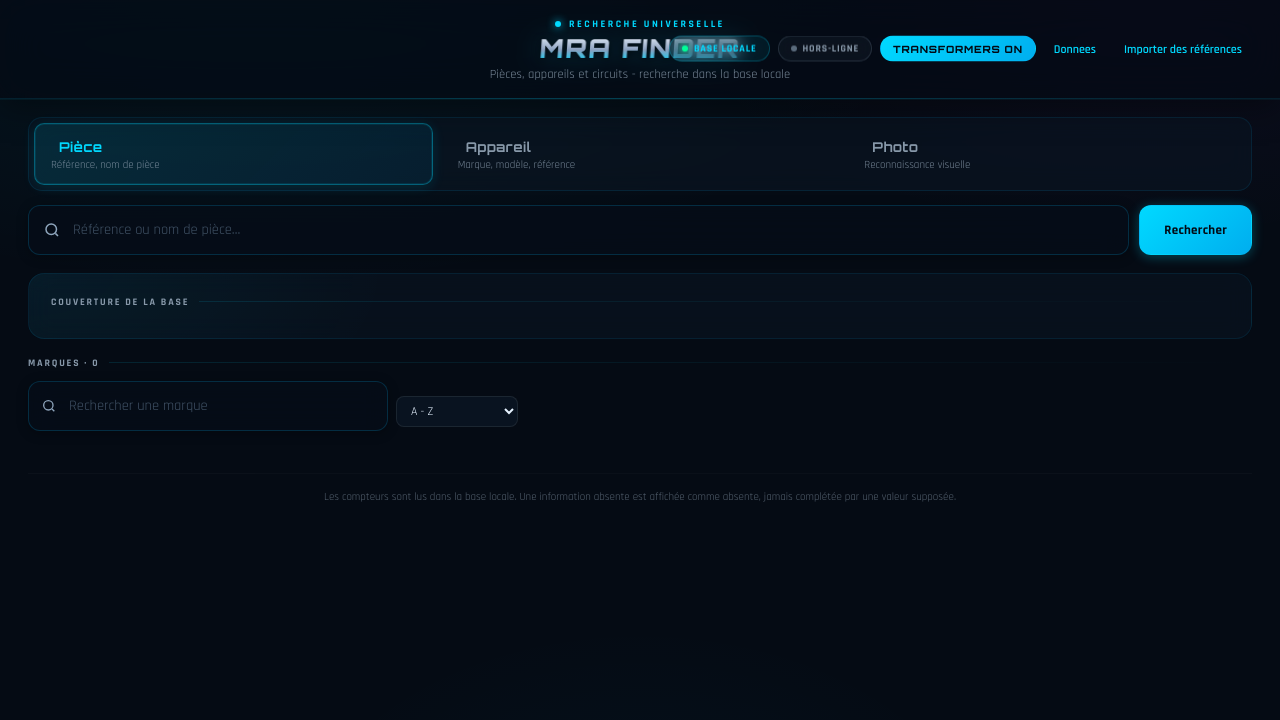
MRA FINDER — écran › le panneau d’import annonce la règle des statuts et propose le modèle CSV
Click the button "Importer des références" at (1183, 49), box top-left (1114, 35), bottom-right (1252, 62)
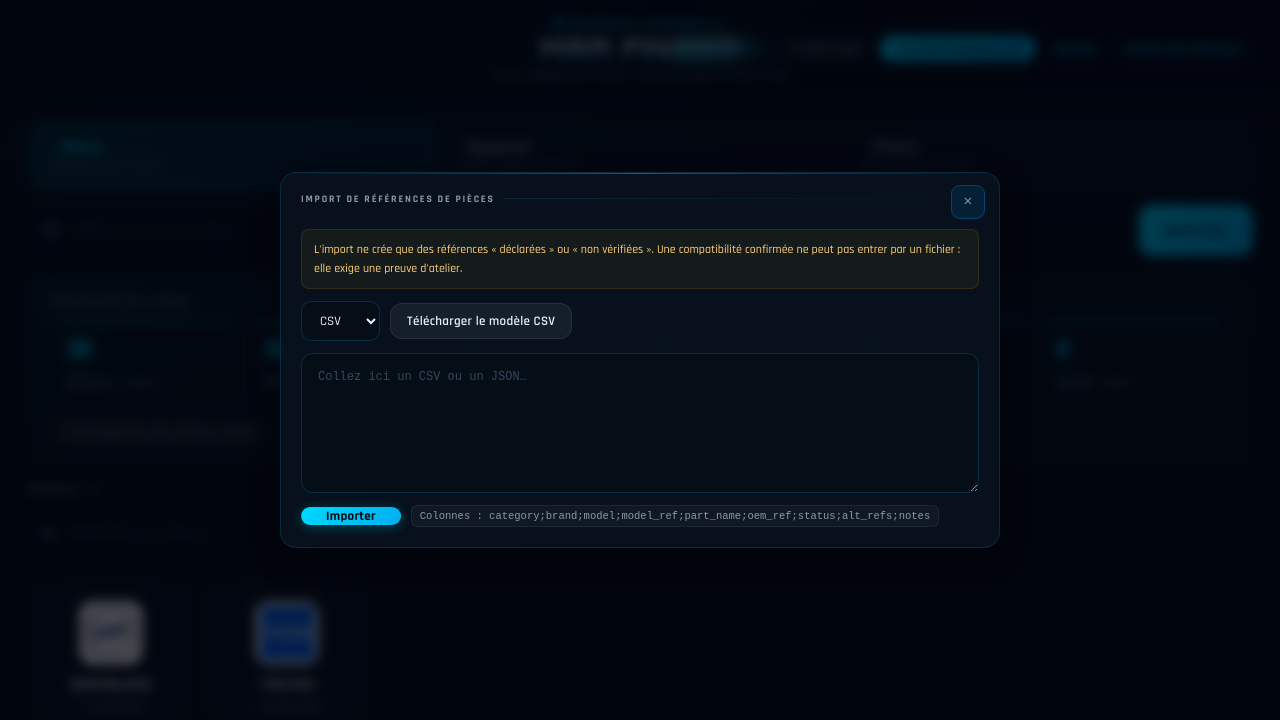
Result: the text "L'import ne crée que des références « déclarées » ou « non vérifiées ». Une compatibilité confirmée ne peut pas entrer p" is shown at top-left (314, 242), bottom-right (960, 276)
Result: the button "Télécharger le modèle CSV" is shown at top-left (390, 303), bottom-right (572, 339)
Result: the text box labelled "Collez ici un CSV ou un JSON…" is shown at top-left (301, 353), bottom-right (979, 493)
